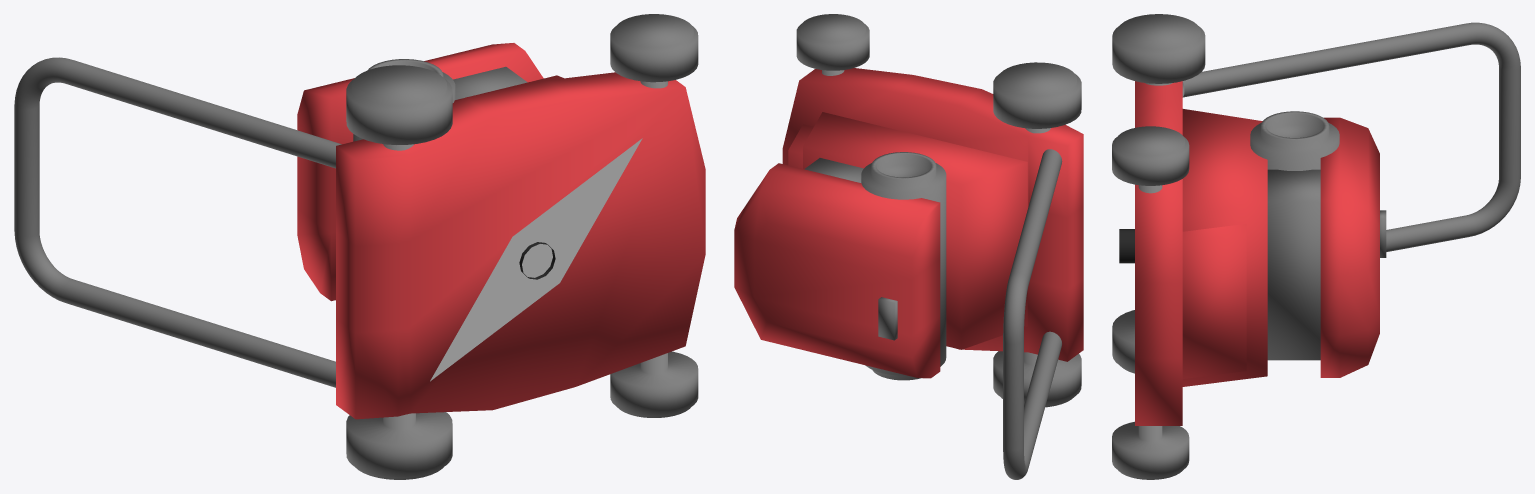
The model's file is kosilka.fbx.
3 renders of one model, left to right at view 1: azimuth 30°, elevation 25°; view 2: azimuth 150°, elevation 25°; view 3: azimuth 270°, elevation 25°, orthographic. The views are drawn at different scales.
Parts seen in each view (by area): view 1: Object_6; view 2: Object_6; view 3: Object_6.
Part boxes in pixels (<box>): Object_6: <box>14,14,705,479</box>; Object_6: <box>734,14,1083,479</box>; Object_6: <box>1112,14,1520,479</box>.
Bounding box in the file's own units: 560 × 422 × 477.
